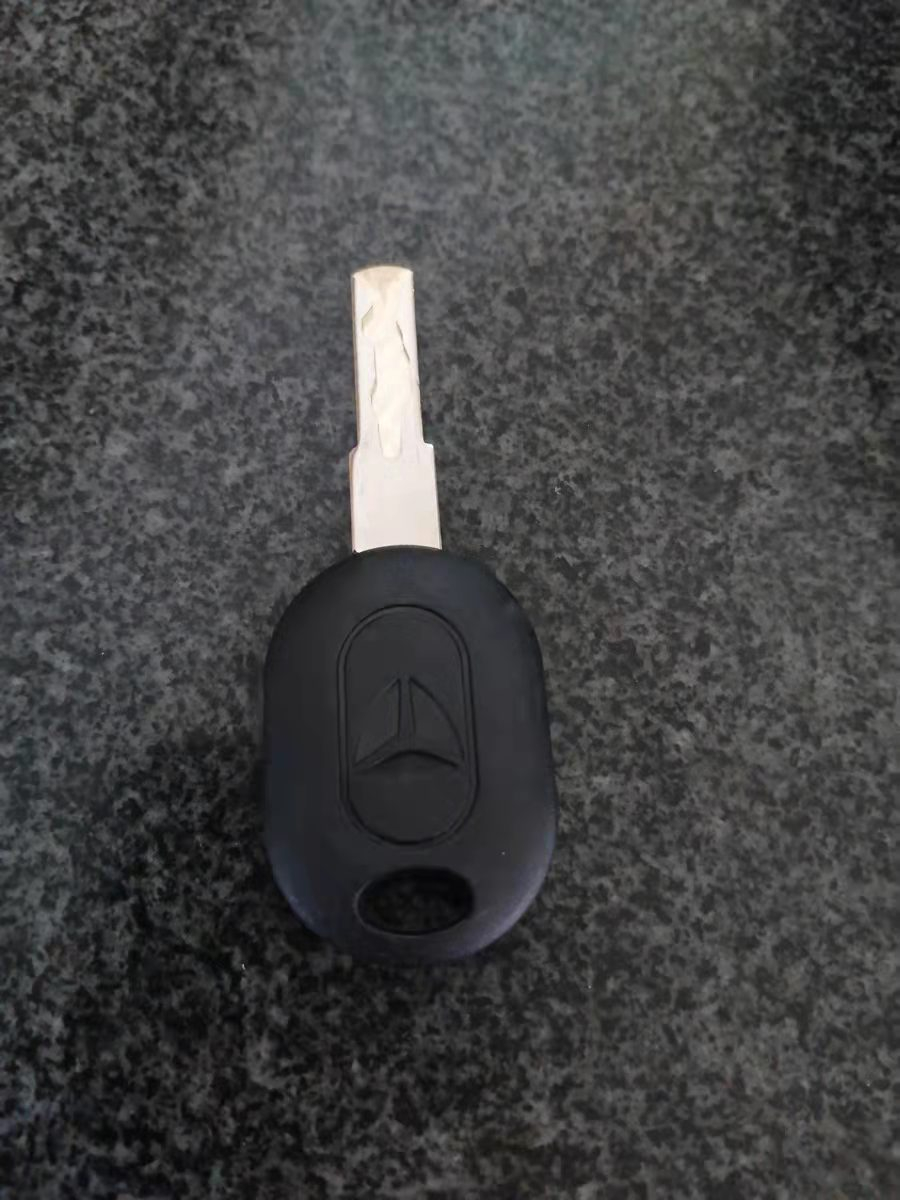key: (237, 258, 576, 969)
